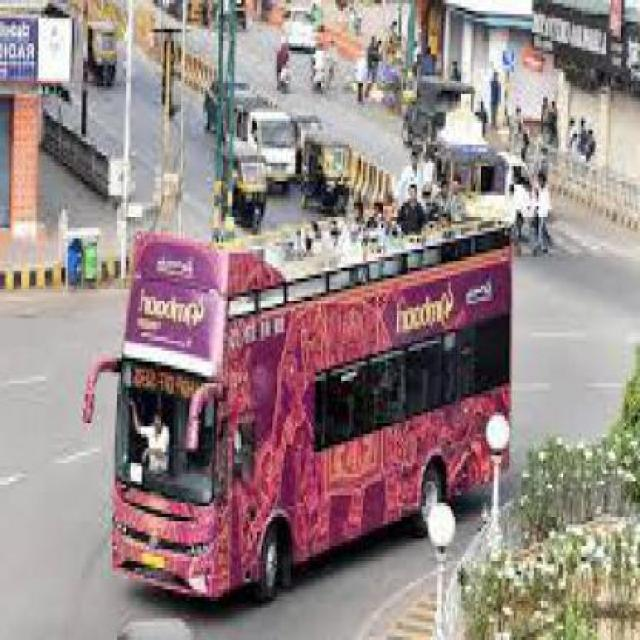bus: (81, 199, 513, 606)
